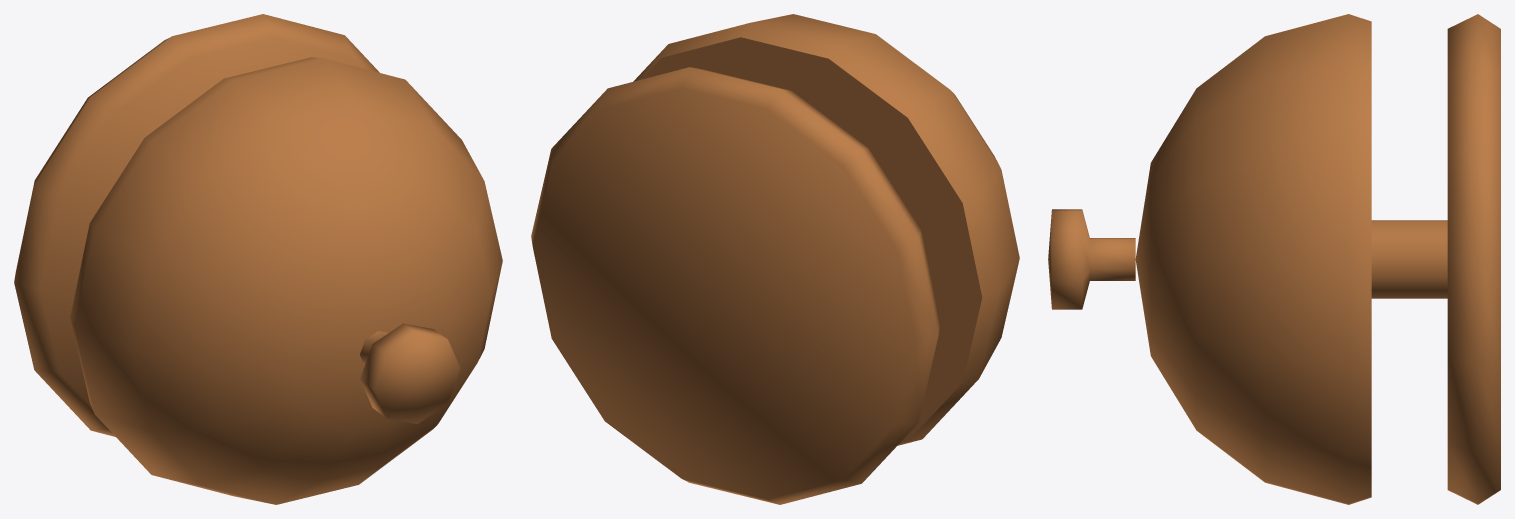
Rendered from companion_skin_till_bell.glb.
3 renders of one model, left to right at view 1: azimuth 30°, elevation 25°; view 2: azimuth 150°, elevation 25°; view 3: azimuth 270°, elevation 25°, orthographic. The views are drawn at different scales.
Parts seen in each view (by area): view 1: TillBell; view 2: TillBell; view 3: TillBell.
Boxes of the visible parts, x1,y1,x2,y2 form: TillBell: (14,14,502,504); TillBell: (531,14,1019,504); TillBell: (1048,14,1500,504).
Bounding box in the file's own units: 0.132 × 0.1287 × 0.119.
